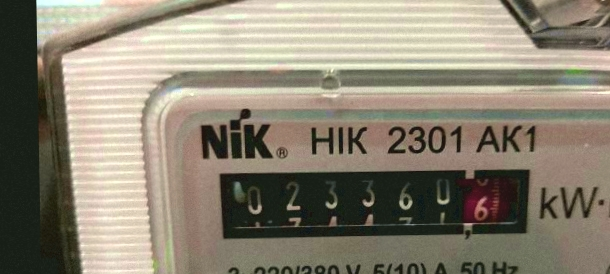0: (242, 181, 264, 215), (433, 174, 451, 205)
2: (280, 178, 304, 212)
3: (318, 177, 340, 209), (357, 175, 377, 207)
6: (393, 178, 414, 210), (468, 191, 490, 221)
screen: (200, 150, 543, 253)
